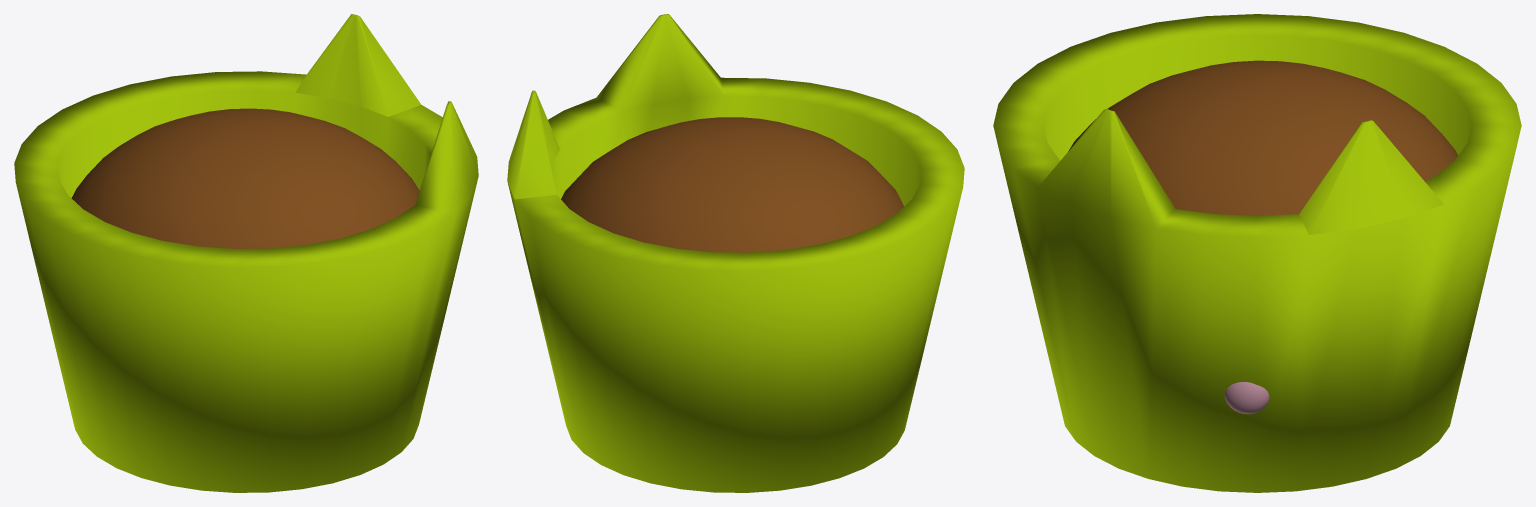
The model's file is MacetaPrimavera2.fbx.
The picture shows the model from 3 angles, left to right: view 1: azimuth 30°, elevation 25°; view 2: azimuth 150°, elevation 25°; view 3: azimuth 270°, elevation 25°; orthographic projection. The views are drawn at different scales.
Visible parts, largest first — view 1: Circle.013, Sphere.013; view 2: Circle.013, Sphere.013; view 3: Circle.013, Sphere.013, Sphere.016.
Boxes of the visible parts, x1,y1,x2,y2 form: Circle.013: (14, 14, 478, 492); Sphere.013: (71, 108, 419, 248); Circle.013: (507, 14, 964, 492); Sphere.013: (561, 117, 903, 252); Circle.013: (993, 14, 1521, 492); Sphere.013: (1068, 60, 1458, 215); Sphere.016: (1224, 382, 1269, 414).
Size of the model in its own units: 29.14 by 22.85 by 29.14.
